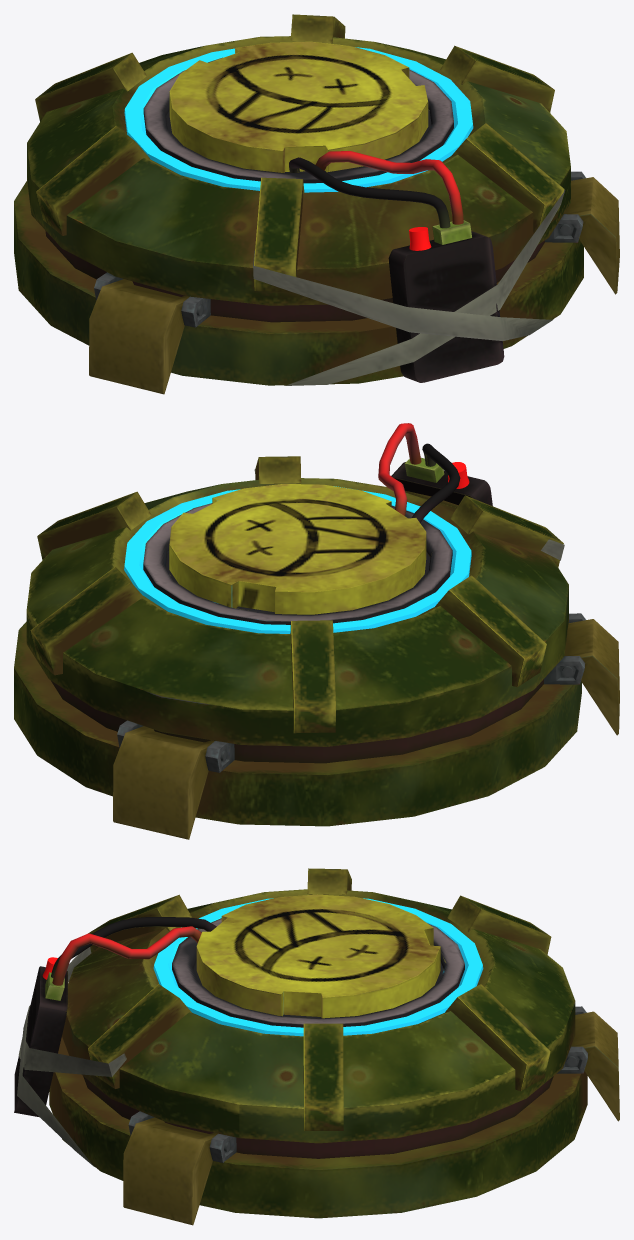
The model's file is mine.glb.
The picture shows the model from 3 angles, top to bottom: view 1: azimuth 30°, elevation 25°; view 2: azimuth 150°, elevation 25°; view 3: azimuth 270°, elevation 25°; orthographic projection. The views are drawn at different scales.
Parts seen in each view (by area): view 1: cap_low, button_low, bottom_low, controls_low, side_low1, cylinder2_low, tape1_low, cylinder1_low, cube1_low1, tape2_low, cube2_low, cube1_low (+10 smaller); view 2: cap_low, bottom_low, button_low, side_low, cylinder2_low, cylinder1_low, center_low, cube1_low1, pCube6_low, pCube5_low, side_low1, pCube3_low (+8 smaller); view 3: cap_low, bottom_low, button_low, side_low2, cylinder1_low, cylinder2_low, center_low, pCube5_low, pCube3_low, cube2_low, controls_low, side_low (+9 smaller).
Boxes of the visible parts, x1,y1,x2,y2 form: cap_low: (27, 36, 570, 305); button_low: (169, 41, 428, 172); bottom_low: (14, 181, 583, 385); controls_low: (388, 231, 504, 382); side_low1: (89, 279, 189, 394); cylinder2_low: (124, 47, 473, 192); tape1_low: (253, 251, 553, 340); cylinder1_low: (143, 57, 453, 183); cube1_low1: (36, 126, 149, 235); tape2_low: (284, 189, 565, 385); cube2_low: (452, 123, 564, 232); cube1_low: (254, 177, 304, 292); cap_low: (26, 478, 568, 746); bottom_low: (14, 621, 581, 826); button_low: (169, 484, 426, 614); side_low: (113, 726, 214, 839); cylinder2_low: (124, 486, 471, 633); cylinder1_low: (143, 503, 452, 624); center_low: (51, 679, 543, 763); cube1_low1: (435, 575, 546, 687); pCube6_low: (290, 620, 335, 733); pCube5_low: (30, 566, 145, 675); side_low1: (564, 619, 619, 735); pCube3_low: (37, 491, 151, 559); cap_low: (62, 889, 575, 1143); bottom_low: (49, 1037, 587, 1218); button_low: (196, 894, 440, 1018); side_low2: (123, 1117, 217, 1225); cylinder1_low: (172, 918, 464, 1027); cylinder2_low: (153, 898, 483, 1036); center_low: (83, 1076, 553, 1158); pCube5_low: (445, 984, 550, 1091); pCube3_low: (303, 1023, 343, 1130); cube2_low: (88, 984, 191, 1088); controls_low: (14, 966, 67, 1117); side_low: (571, 1011, 619, 1121).
Size of the model in its own units: 0.0313 by 0.0113 by 0.0336.
Materials: 1 (1 with a texture image).
